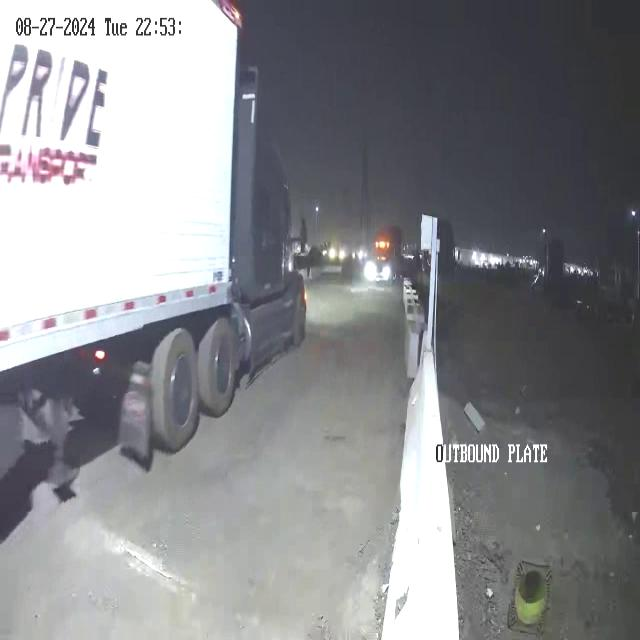CONTAINER: (0, 1, 242, 376)
